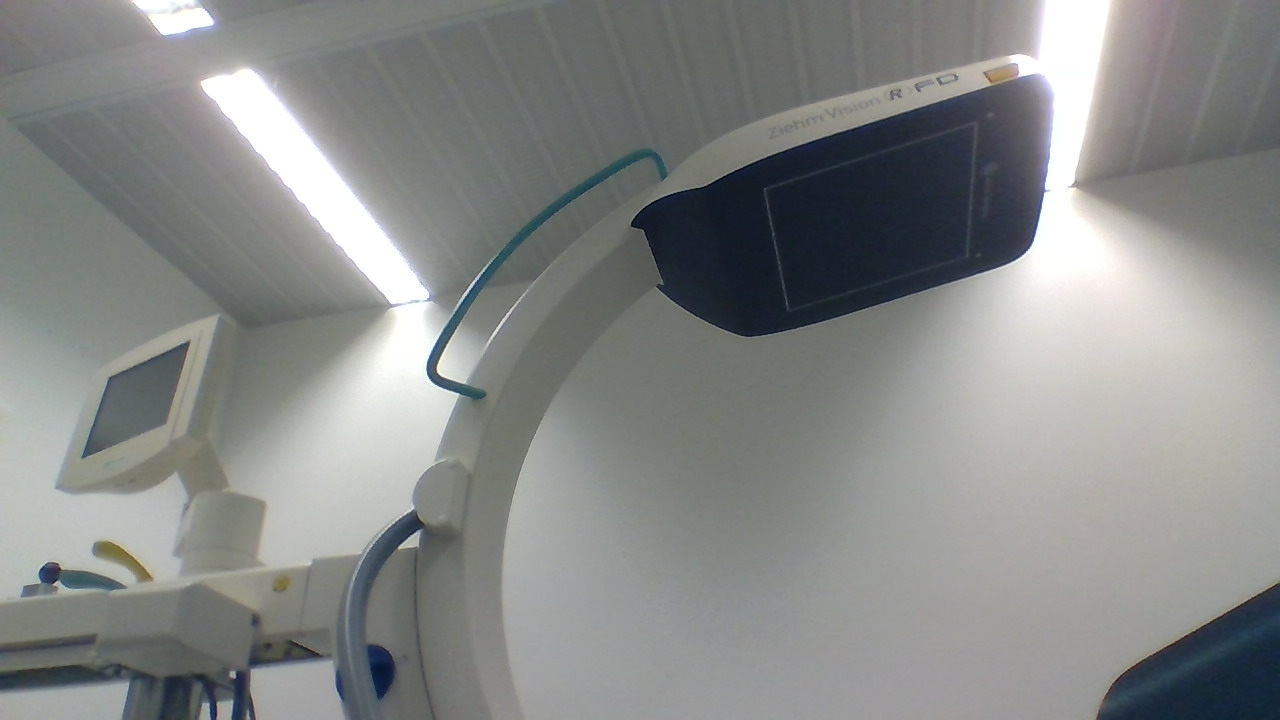carmLOCK: (332, 644, 396, 704)
carmSCREEN: (55, 311, 241, 493)
carmUP: (638, 54, 1052, 338)
